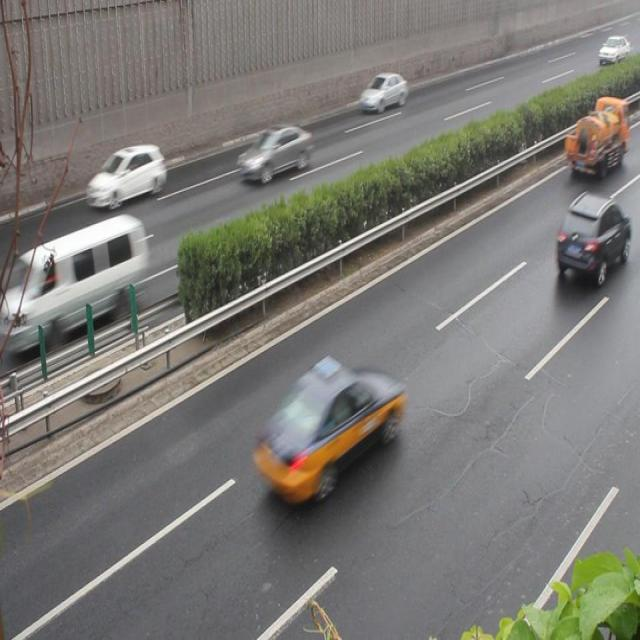bus: (565, 96, 628, 172)
car: (252, 358, 403, 501), (554, 192, 626, 280), (85, 142, 166, 210), (237, 124, 311, 188), (360, 73, 406, 113)
truck: (17, 215, 148, 342)
